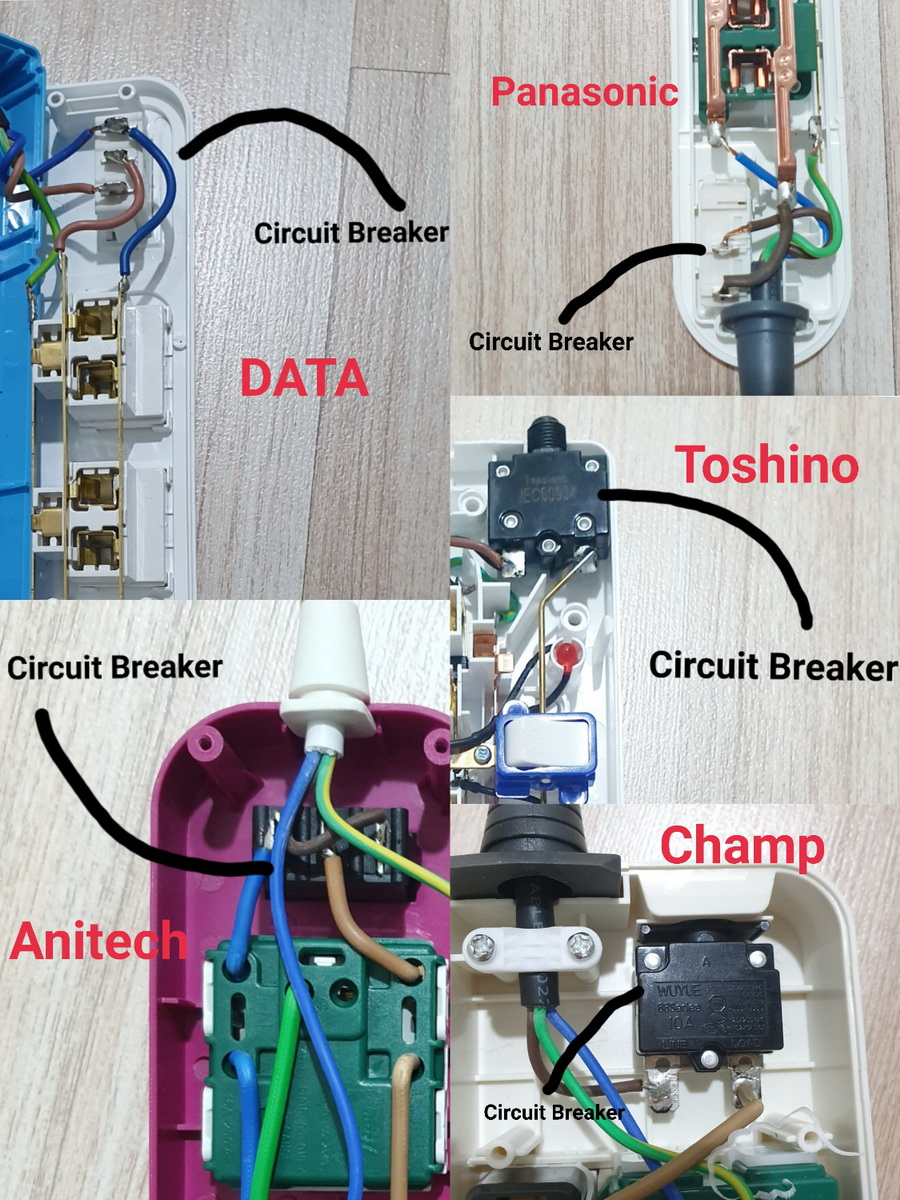Three_eye_plug: (122, 666, 450, 1200), (451, 837, 870, 1200), (1, 41, 194, 595), (646, 1, 867, 376), (450, 414, 629, 809)
